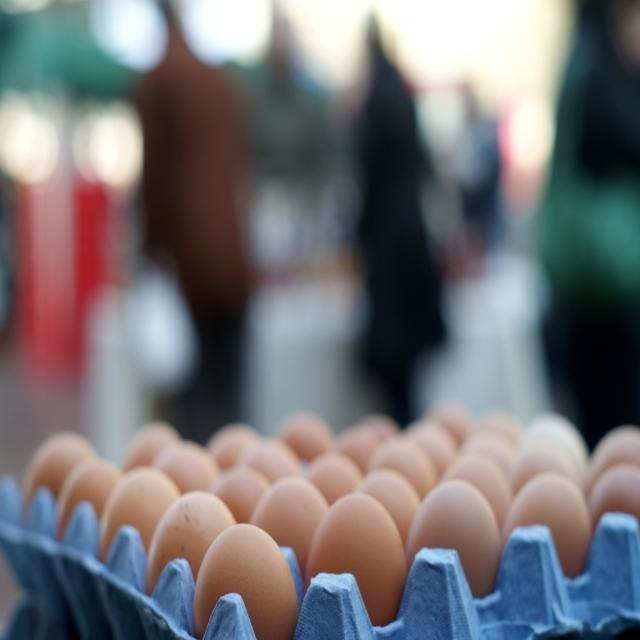Egg: (21, 398, 640, 639), (208, 528, 300, 630)
